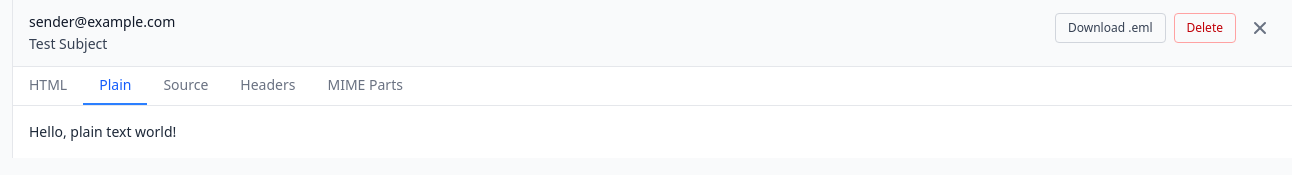
Test: MessageDetail: HTML tab iframe security › still shows the no-html notice if the user manually opens HTML on a plain-only message
The image size is (1292, 175).
Click the tab with test id "tab-html".
click(48, 86)  # box [13, 67, 83, 105]
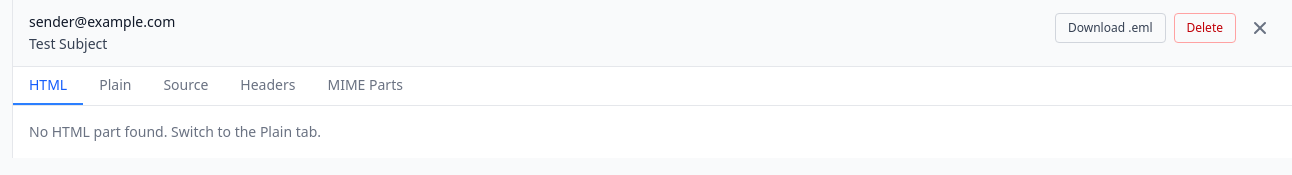
Now the text "No HTML part found. Switch to the Plain tab." is shown, box [29, 122, 321, 141]
